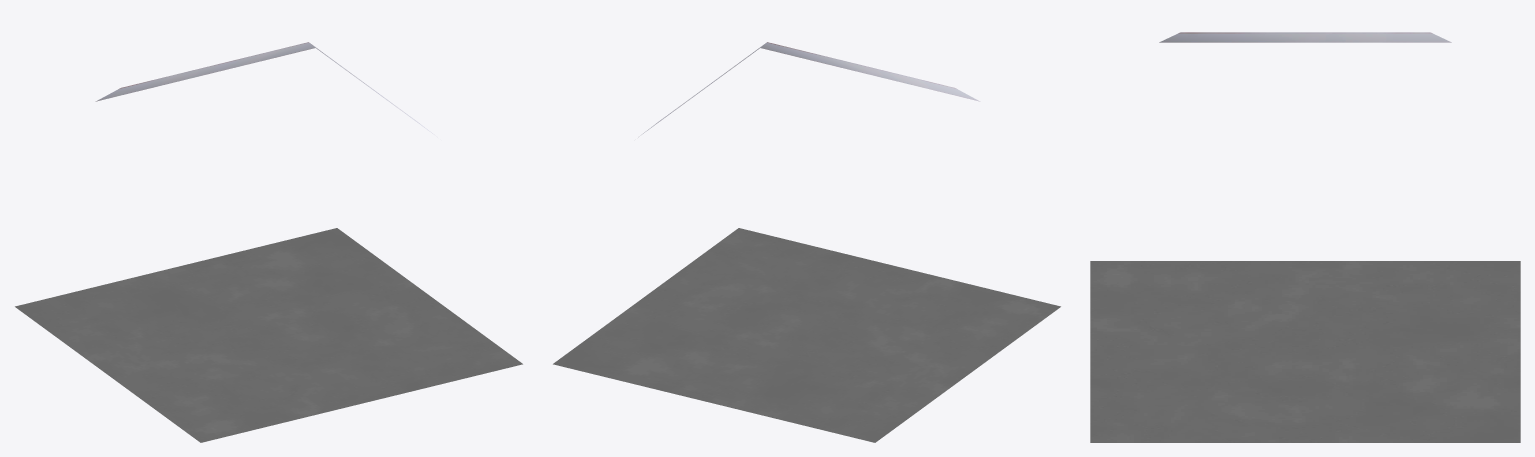
The model's file is Room_5_Cross_LowCeiling.glb.
3 views of the same model, side by side, from view 1: azimuth 30°, elevation 25°; view 2: azimuth 150°, elevation 25°; view 3: azimuth 270°, elevation 25° (orthographic). The views are drawn at different scales.
Parts seen in each view (by area): view 1: Room_5_Cross_LowCeiling; view 2: Room_5_Cross_LowCeiling; view 3: Room_5_Cross_LowCeiling.
Part boxes in pixels (x1,y1,x2,y2): Room_5_Cross_LowCeiling: (15, 42, 522, 442); Room_5_Cross_LowCeiling: (553, 42, 1060, 442); Room_5_Cross_LowCeiling: (1090, 32, 1520, 442).
Bounding box in the file's own units: 6 × 4.1 × 6.
Materials: 2 (2 with a texture image).
